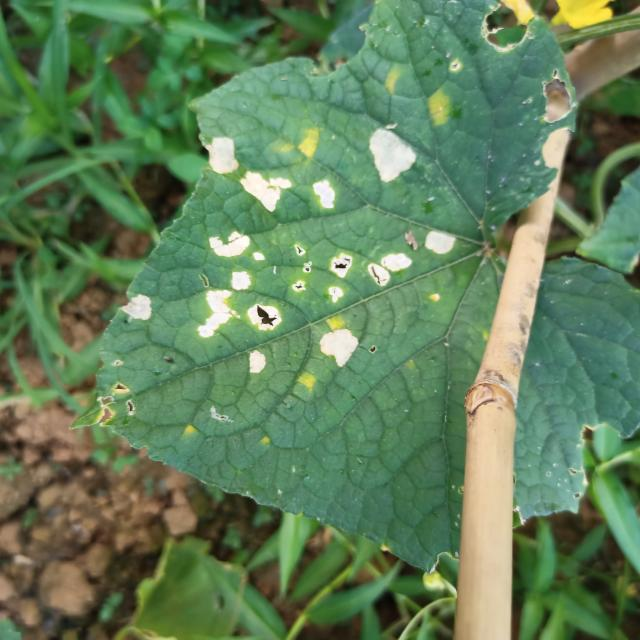disease_cucumber: (192, 222, 415, 383), (367, 122, 422, 186), (240, 170, 294, 218), (422, 224, 468, 264), (198, 135, 240, 175), (284, 121, 323, 161), (422, 89, 459, 131), (309, 176, 342, 219), (119, 292, 153, 331), (292, 369, 321, 397), (381, 65, 404, 95), (320, 310, 348, 332)
